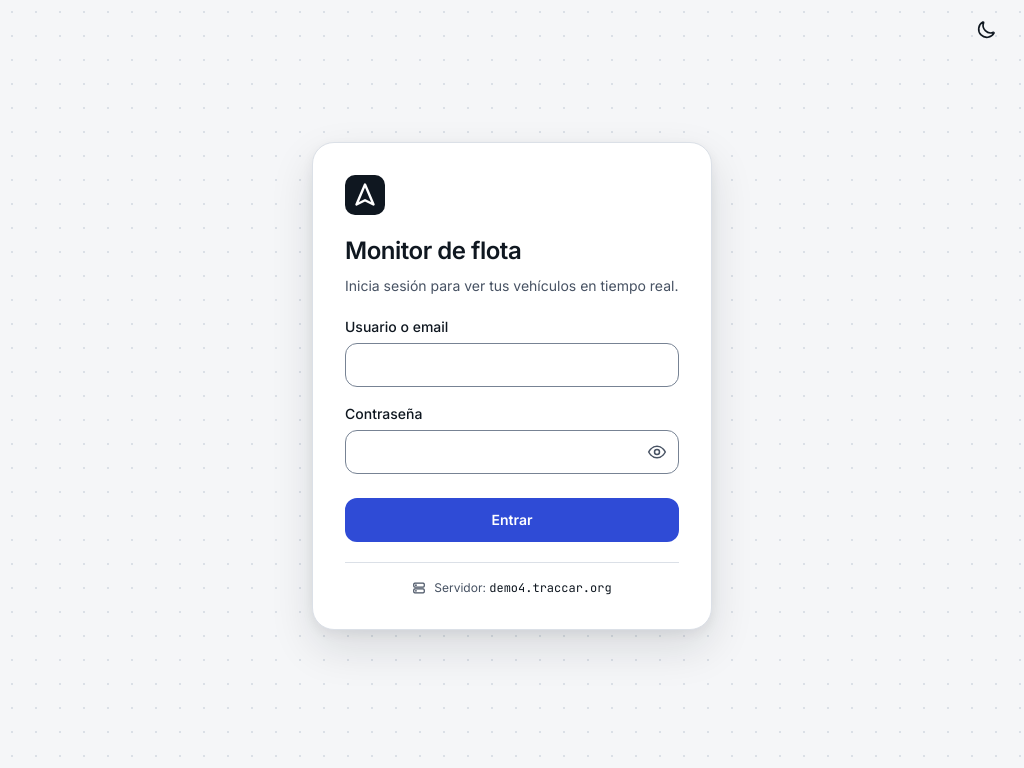
Test: App › explains wrong credentials without leaking the server error
In the field labelled "Usuario o email": (512, 365) [345, 343, 679, 387], type "op@example.com"
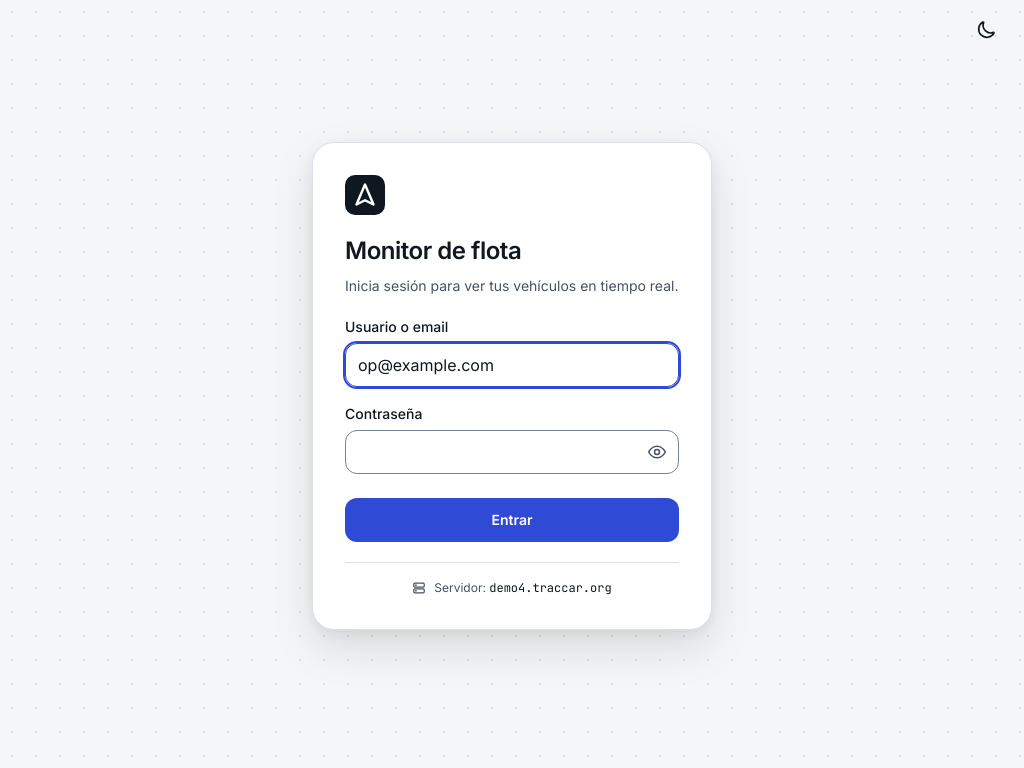
In the password field labelled "Contraseña": (512, 452) [345, 430, 679, 474], type "wrong"
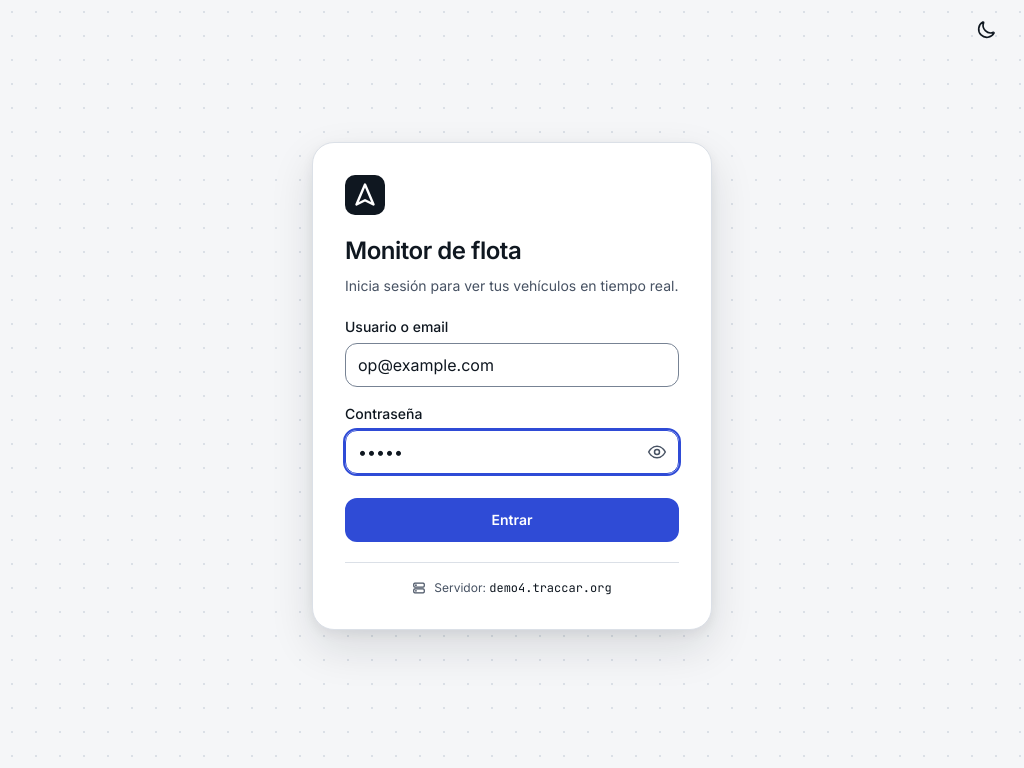
Click the button "Entrar": (512, 520) [345, 498, 679, 542]
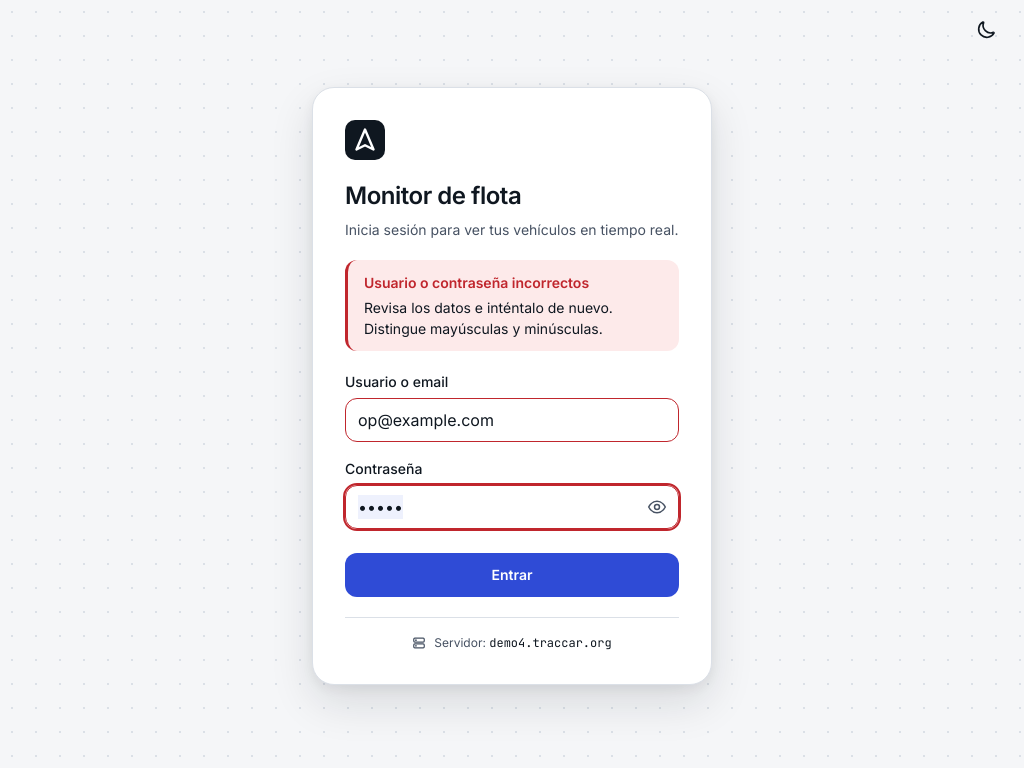
Expected: the message shows "Usuario o contraseña incorrectos", [364, 274, 589, 291]
